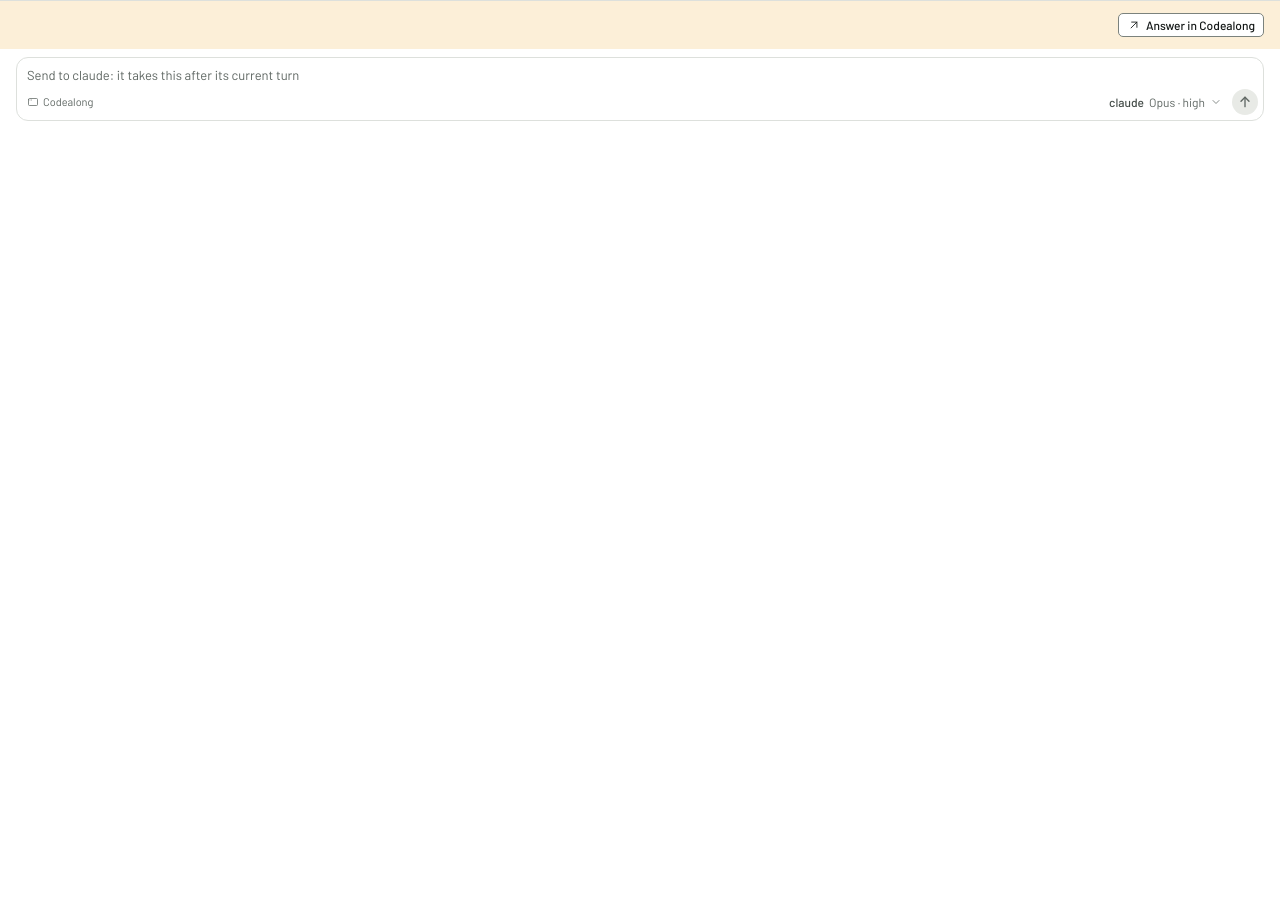
Test case: Reply model menu on Codealong-hosted sessions › keeps model and effort enabled on a hosted session waiting on approval
Later steps or results of the test are not shown.
Step 1. Click the button with class "ca-modelmenu-chip" → (1165, 102), box [1101,89,1228,115]
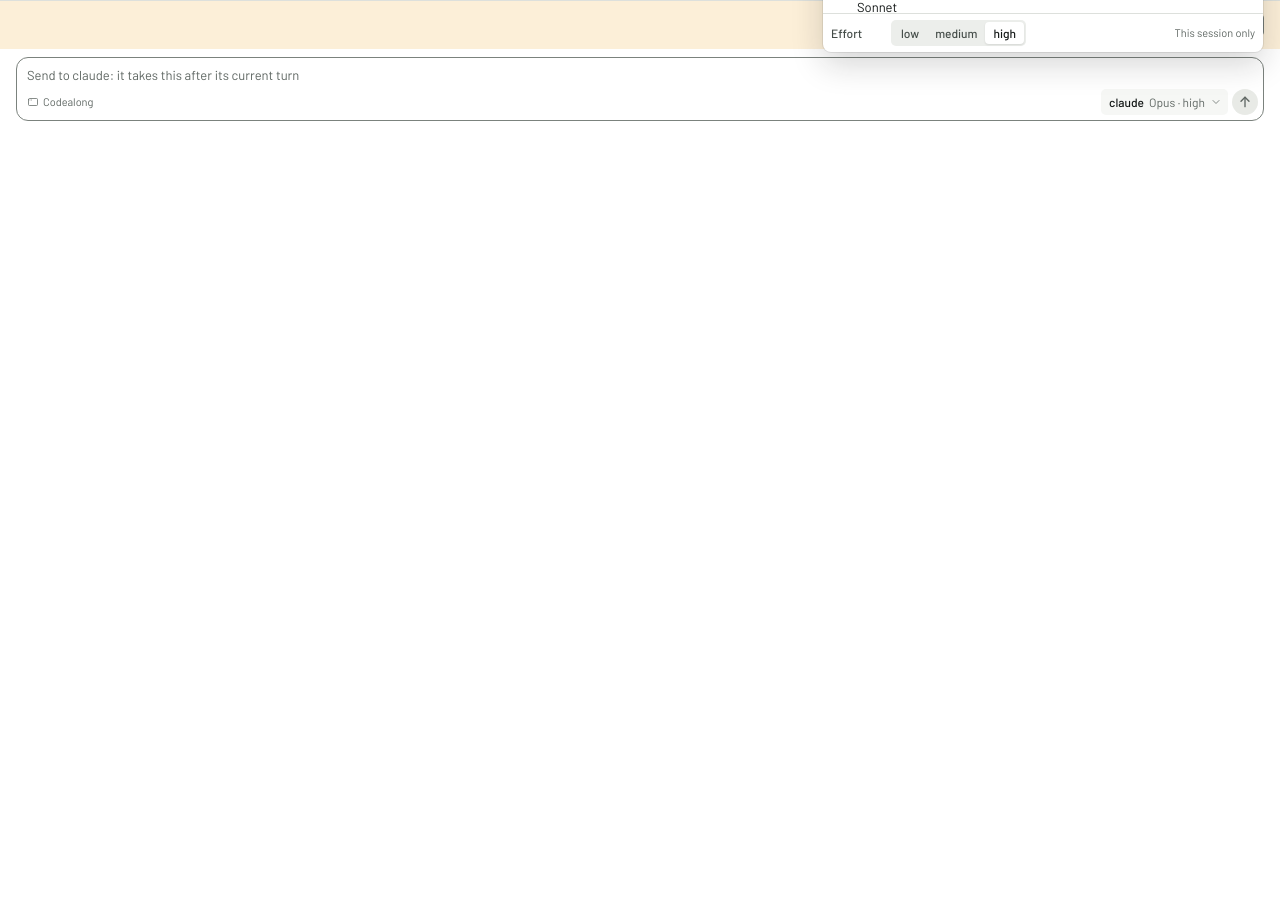
Expected: the radio button labelled "medium" is shown, [927,22,985,44]
